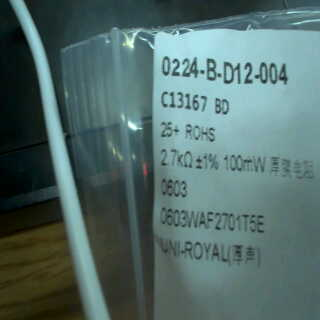2.7kR: (158, 144, 194, 172)
